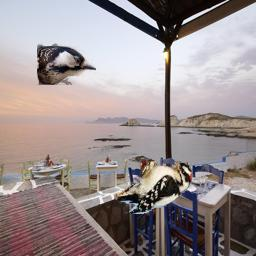Woodpecker: (112, 158, 192, 214), (37, 43, 96, 85)
